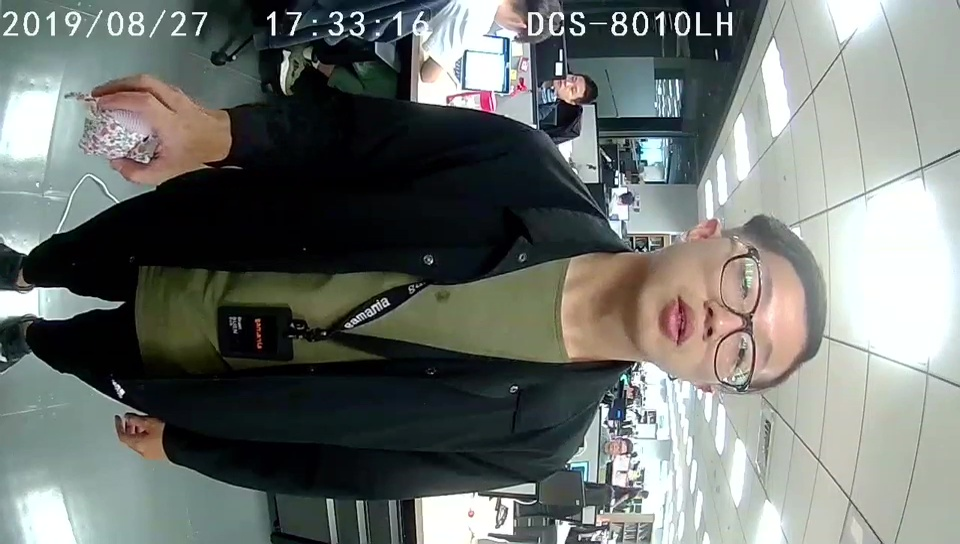pig: (76, 101, 152, 170)
